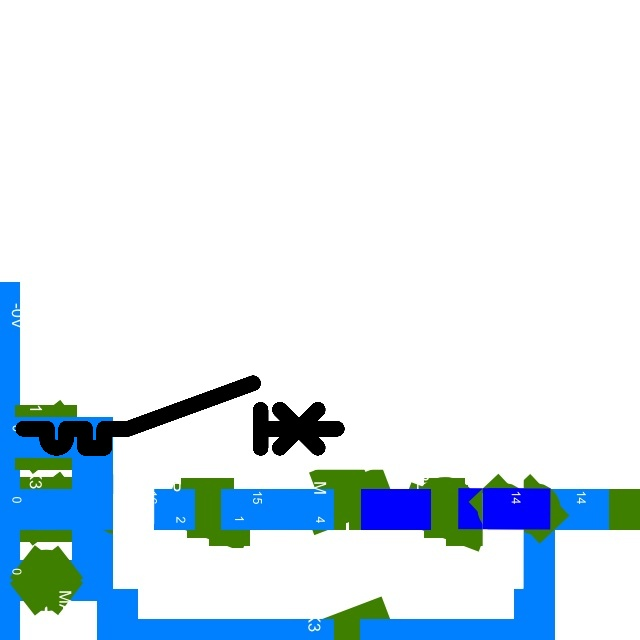interruptor_termomagnetico: (15, 375, 345, 456)
